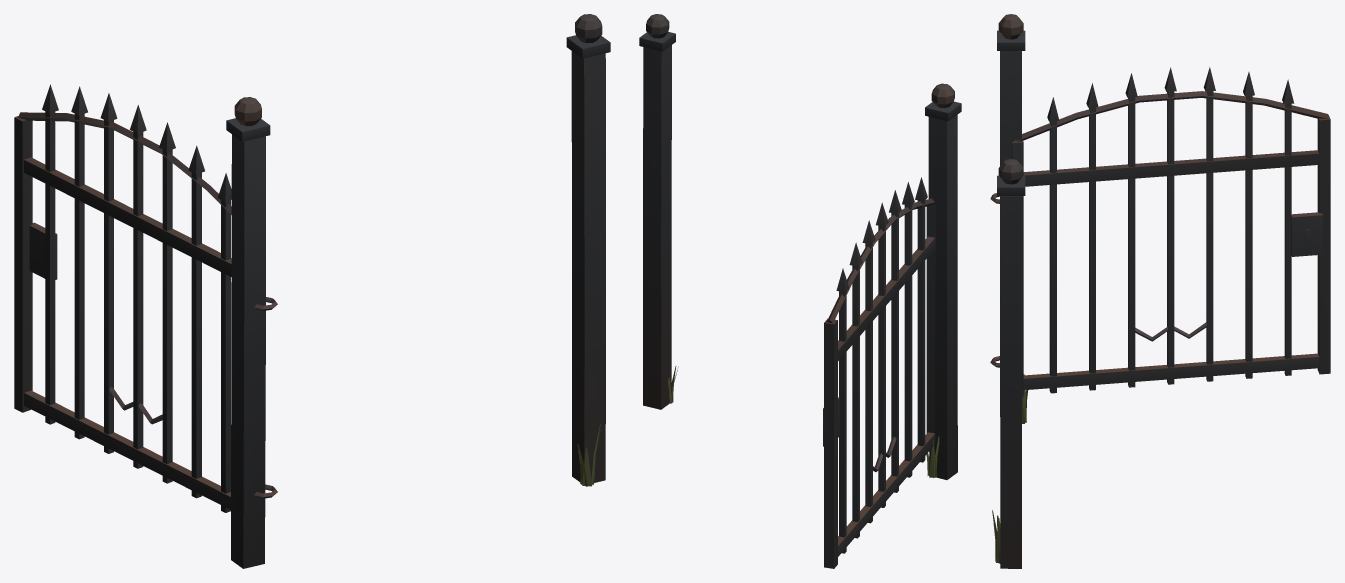
File: ph_prop_gate_small_open.glb
3 renders of one model, left to right at view 1: azimuth 30°, elevation 25°; view 2: azimuth 150°, elevation 25°; view 3: azimuth 270°, elevation 25°, orthographic. The views are drawn at different scales.
Parts seen in each view (by area): view 1: ph_prop_gate_small_open; view 2: ph_prop_gate_small_open; view 3: ph_prop_gate_small_open.
Part boxes in pixels (x1,y1,x2,y2): ph_prop_gate_small_open: [14, 14, 610, 568]; ph_prop_gate_small_open: [639, 14, 961, 568]; ph_prop_gate_small_open: [990, 14, 1330, 568].
Bounding box in the file's own units: 1.31 × 1.43 × 1.09.
